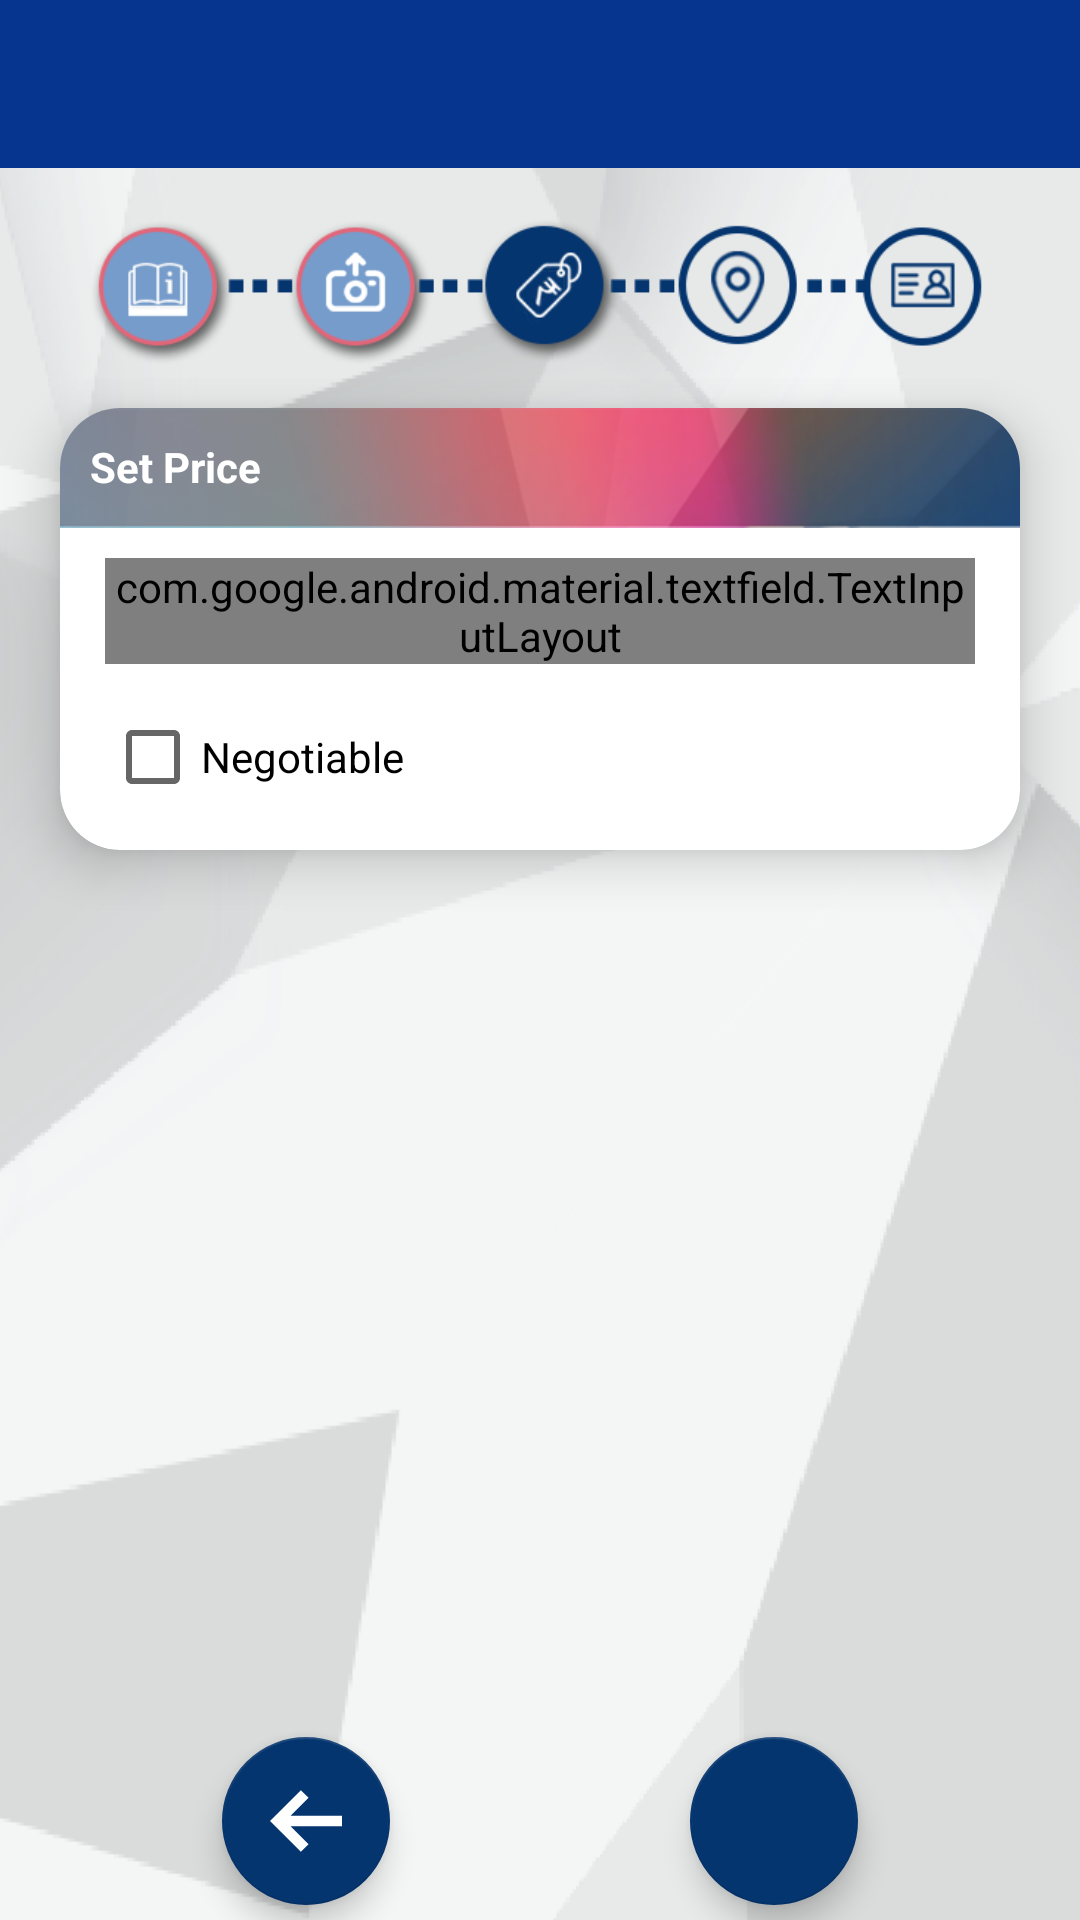

Named icons in this screenshot (1080w x 1920h) and their centers, (x,y):
left arrow: (306,1821)
